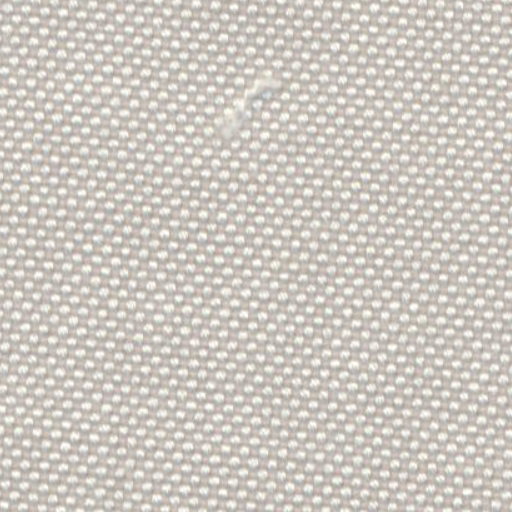DuanSha: (200, 74, 301, 143)
